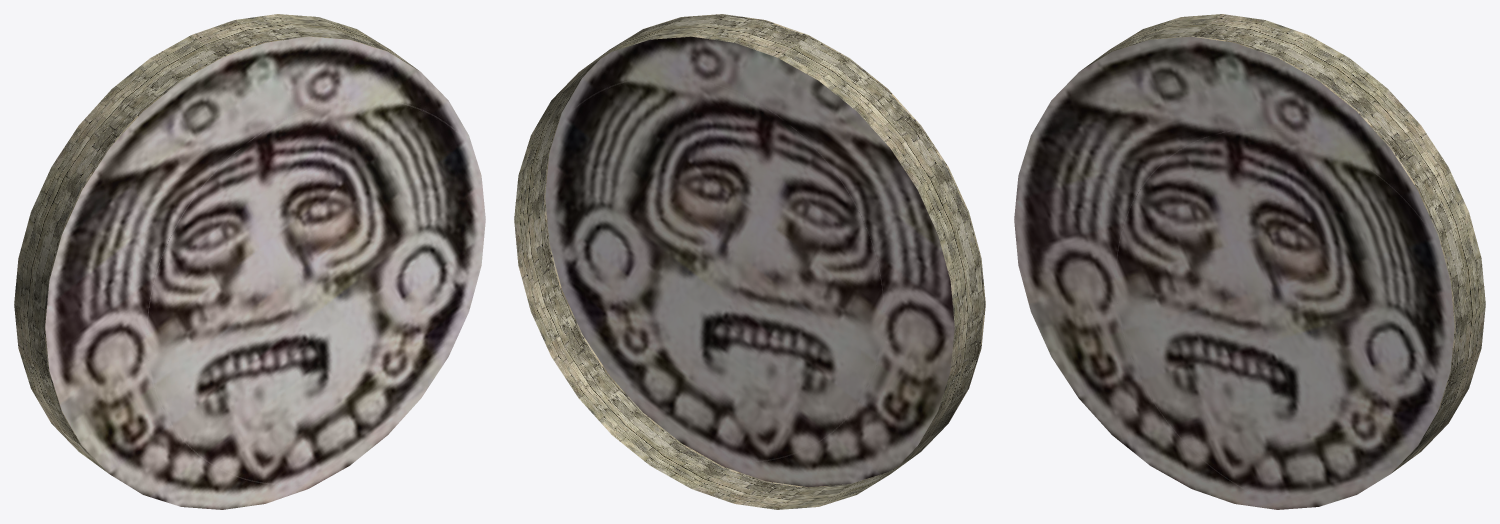
File: first new.FBX
3 views of the same model, side by side, from view 1: azimuth 30°, elevation 25°; view 2: azimuth 150°, elevation 25°; view 3: azimuth 330°, elevation 25° (orthographic).
Visible parts, largest first — view 1: first; view 2: first; view 3: first.
Boxes of the visible parts, x1=… form: first: x1=14, y1=14, x2=485, y2=509; first: x1=514, y1=14, x2=985, y2=509; first: x1=1014, y1=14, x2=1485, y2=509.
Bounding box in the file's own units: 16.33 × 16.33 × 1.99.
